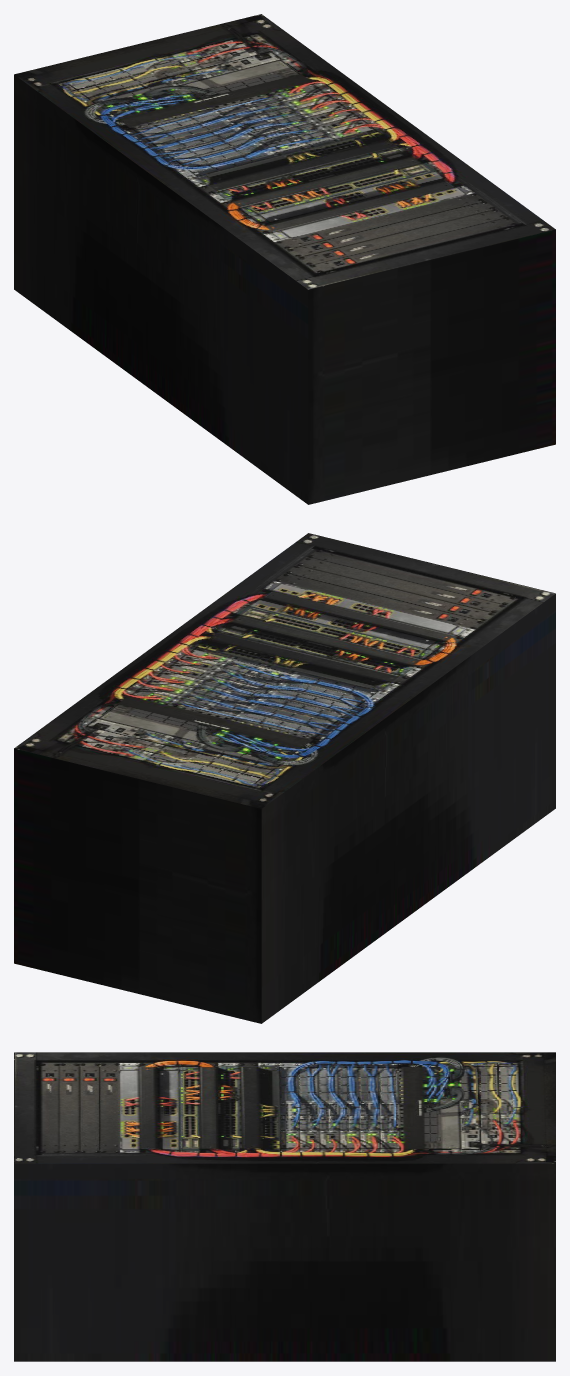
The model's file is Server.fbx.
The picture shows the model from 3 angles, top to bottom: view 1: azimuth 30°, elevation 25°; view 2: azimuth 150°, elevation 25°; view 3: azimuth 270°, elevation 25°; orthographic projection. The views are drawn at different scales.
Parts seen in each view (by area): view 1: Cube; view 2: Cube; view 3: Cube.
Part boxes in pixels (<box>): Cube: <box>14,14,555,504</box>; Cube: <box>14,533,555,1023</box>; Cube: <box>14,1052,555,1361</box>.
Size of the model in its own units: 241 by 200 by 496.
